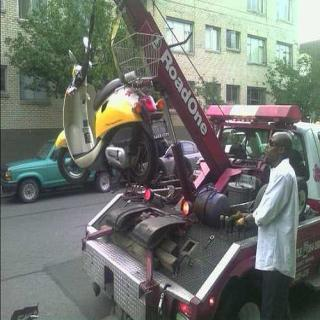Towing_truck: (79, 1, 318, 318)
